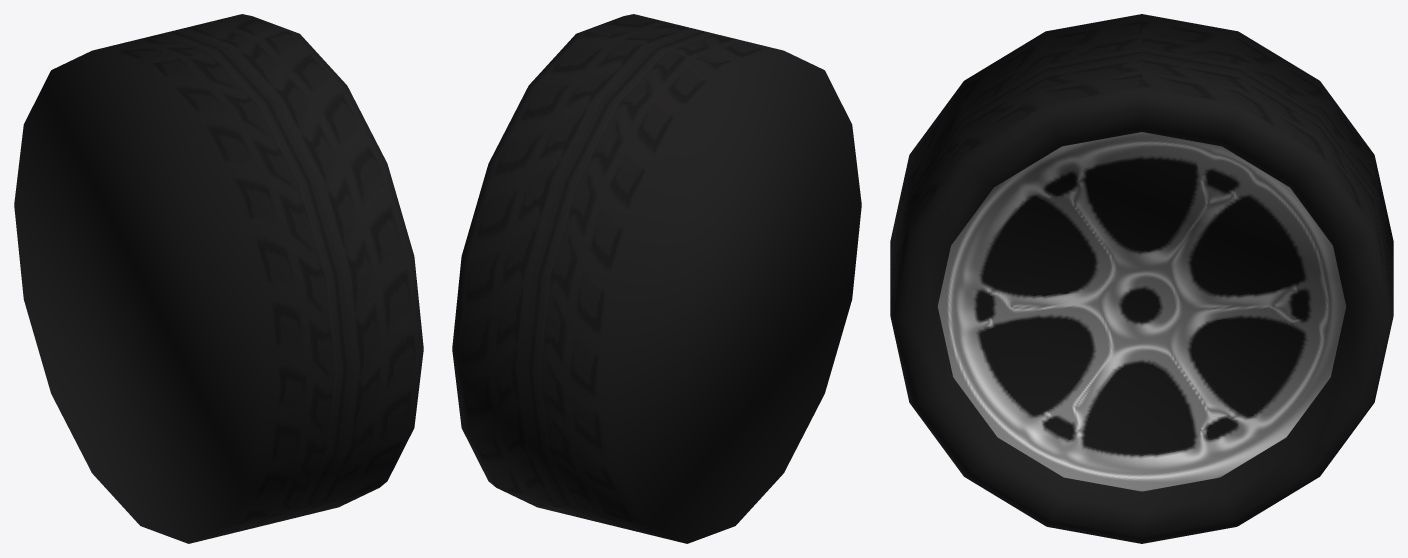
File: Tire5.fbx
3 renders of one model, left to right at view 1: azimuth 30°, elevation 25°; view 2: azimuth 150°, elevation 25°; view 3: azimuth 270°, elevation 25°, orthographic.
Visible parts, largest first — view 1: Circle.001; view 2: Circle.001; view 3: Circle.001.
Boxes of the visible parts, x1,y1,x2,y2 form: Circle.001: [14, 14, 423, 543]; Circle.001: [452, 14, 861, 543]; Circle.001: [890, 14, 1393, 543].
Size of the model in its own units: 23.5 by 62.84 by 62.84.
